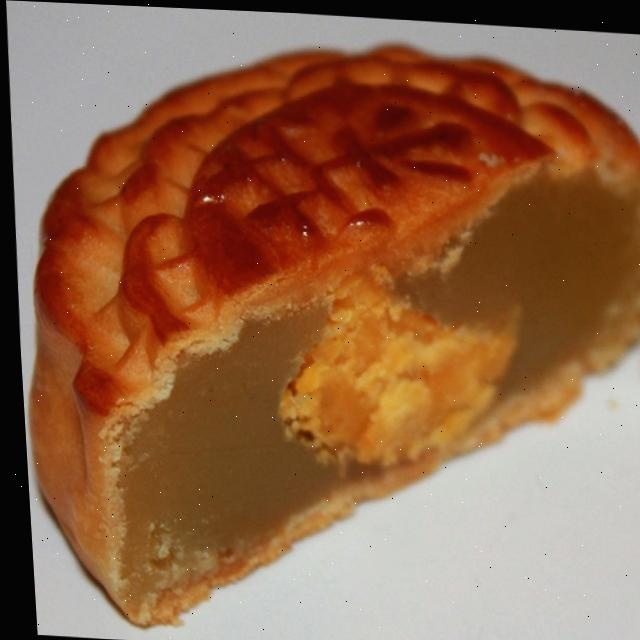蛋糕甜品: (4, 11, 640, 625)
